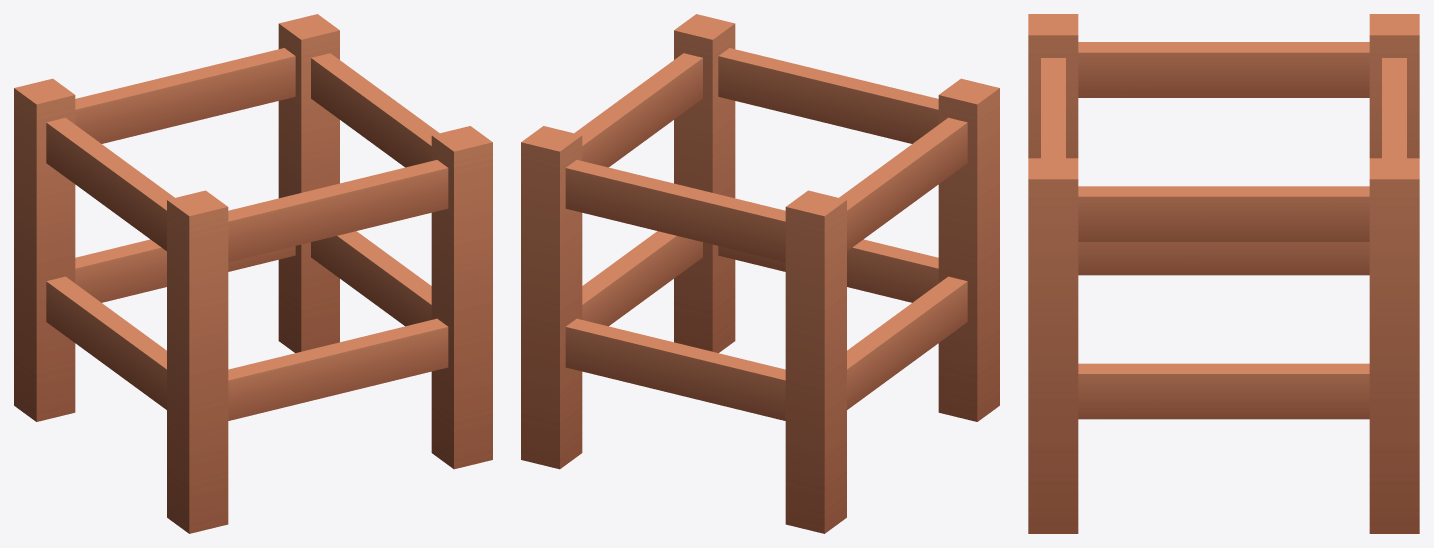
The model's file is wood-structure-high.gltf.
The picture shows the model from 3 angles, left to right: view 1: azimuth 30°, elevation 25°; view 2: azimuth 150°, elevation 25°; view 3: azimuth 270°, elevation 25°; orthographic projection. The views are drawn at different scales.
Visible parts, largest first — view 1: wood-structure-high; view 2: wood-structure-high; view 3: wood-structure-high.
Part boxes in pixels (bbox=[...]): wood-structure-high: bbox=[14, 14, 492, 533]; wood-structure-high: bbox=[521, 14, 999, 533]; wood-structure-high: bbox=[1028, 14, 1419, 533].
Bounding box in the file's own units: 1 × 1 × 1.
1 material, 1 textured.
